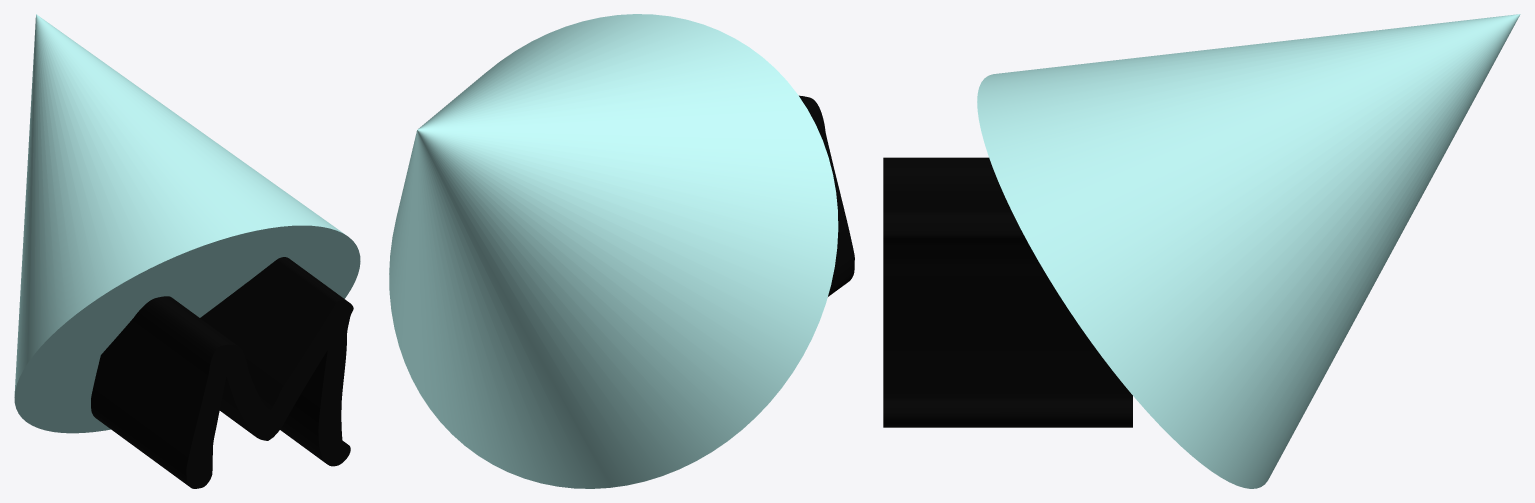
The picture shows the model from 3 angles, left to right: view 1: azimuth 30°, elevation 25°; view 2: azimuth 150°, elevation 25°; view 3: azimuth 270°, elevation 25°; orthographic projection. The views are drawn at different scales.
Parts seen in each view (by area): view 1: mesh_id55, mesh_id71; view 2: mesh_id55, mesh_id71; view 3: mesh_id55, mesh_id71.
Boxes of the visible parts, left/top/right/bottom form: mesh_id55: left=14, top=14, right=360, bottom=433; mesh_id71: left=91, top=257, right=353, bottom=488; mesh_id55: left=389, top=14, right=838, bottom=488; mesh_id71: left=799, top=95, right=854, bottom=296; mesh_id55: left=977, top=14, right=1520, bottom=488; mesh_id71: left=883, top=157, right=1132, bottom=427.
Bounding box in the file's own units: 0.2 × 0.1997 × 0.2581.
